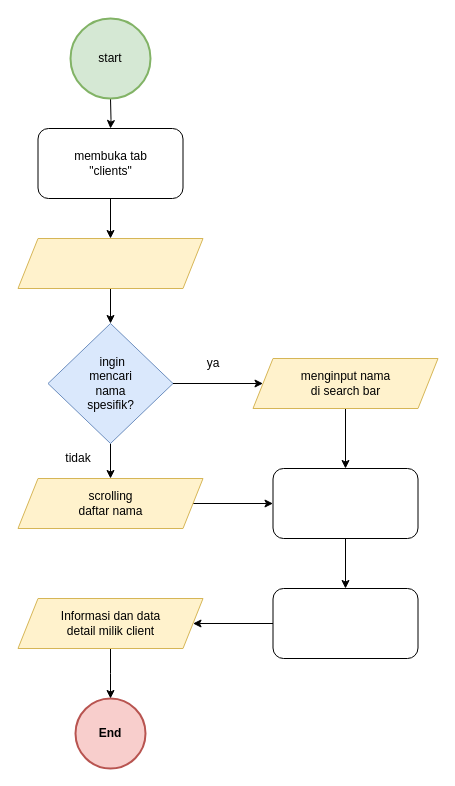
The diagram is 455 pixels wide and 786 high, and some of its shapes have lost their labels. The box of each missing label's shape, as (x1, y1, x2, y2) in pixels:
daftar nama client: (17, 238, 203, 288)
menekan nama client: (272, 588, 418, 658)
menemukan nama client yang ingin dicari: (272, 468, 418, 538)
